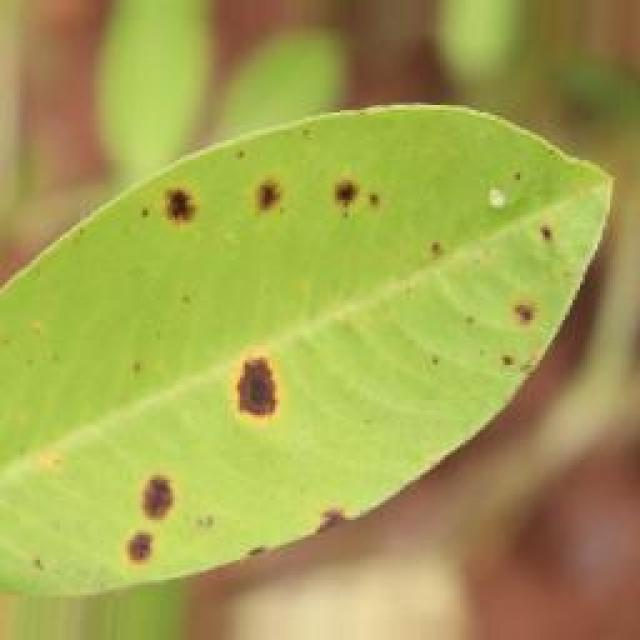Early_leaf_spot: (190, 317, 307, 444), (81, 467, 198, 592), (249, 480, 388, 580), (484, 181, 596, 269), (500, 286, 580, 384), (232, 149, 306, 238), (311, 161, 381, 236), (402, 212, 462, 297), (162, 169, 221, 229)
